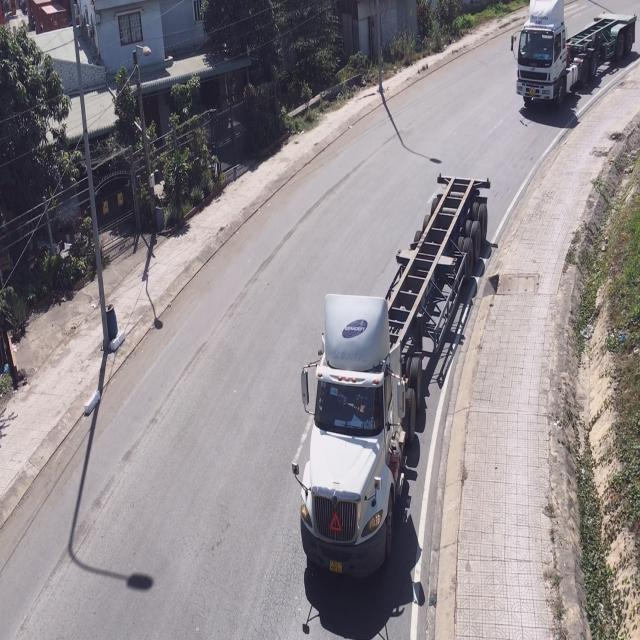truck: (299, 176, 491, 587), (514, 2, 639, 112)
